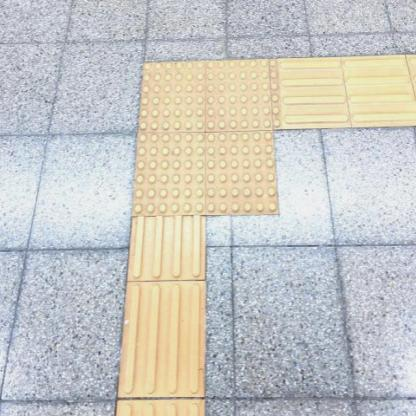podotacti: (70, 15, 355, 294), (115, 216, 207, 412), (283, 54, 416, 127)
